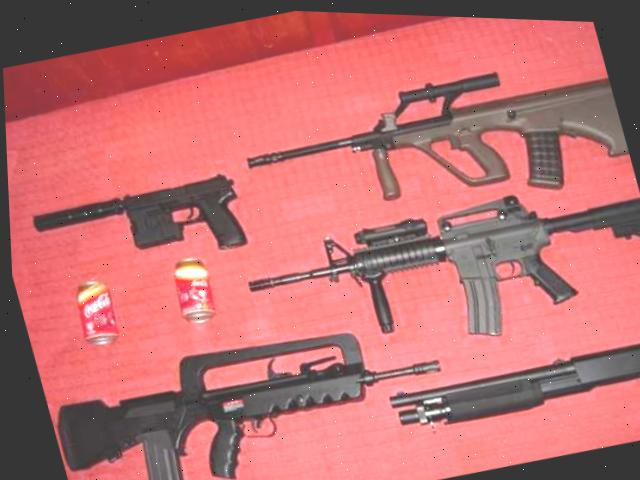rifle: (212, 16, 634, 251), (226, 151, 640, 382), (35, 290, 486, 480), (380, 304, 640, 480), (9, 140, 279, 297)
